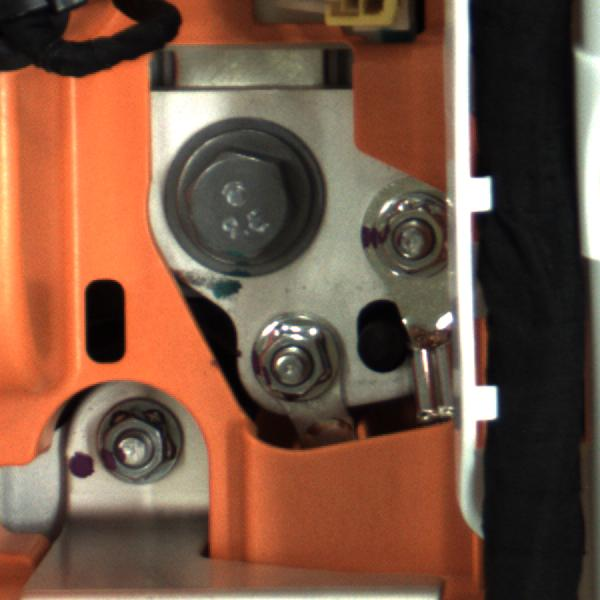screw_s: (241, 312, 354, 414), (80, 397, 186, 483), (361, 188, 457, 279)
